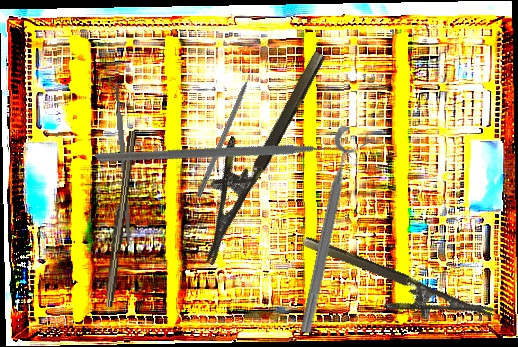Chopper: (94, 36, 358, 285)
Fixation Ring: (293, 124, 373, 338)
Hook Surgical: (196, 64, 258, 199)
Needle Holder: (172, 35, 328, 266), (291, 233, 497, 347)
Scalpel Handle: (101, 130, 138, 308), (114, 85, 133, 246)
